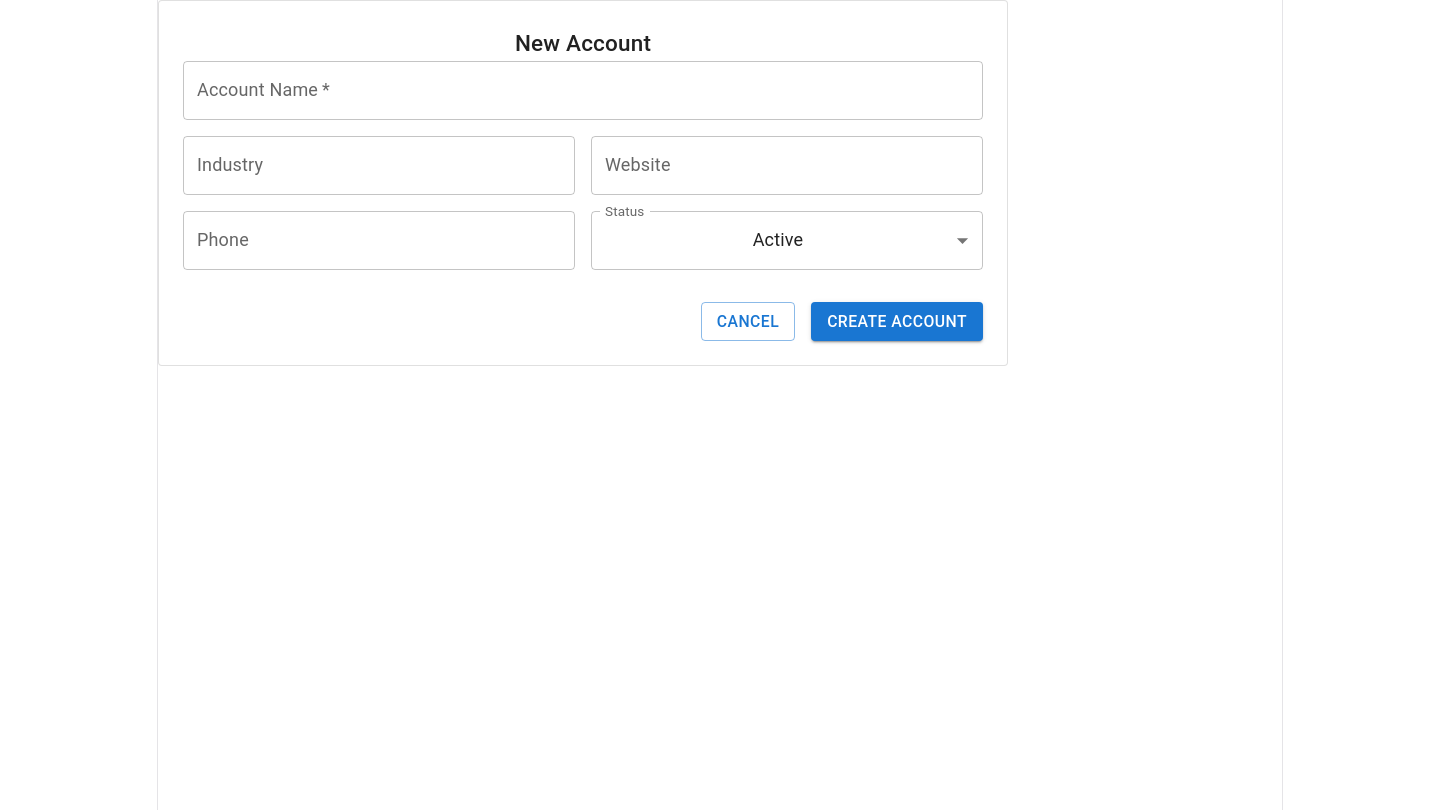
it: AccountFormPage › shows validation error when Account Name is empty
Click the button "Create Account" at [897, 321], box 811,302 -> 983,341
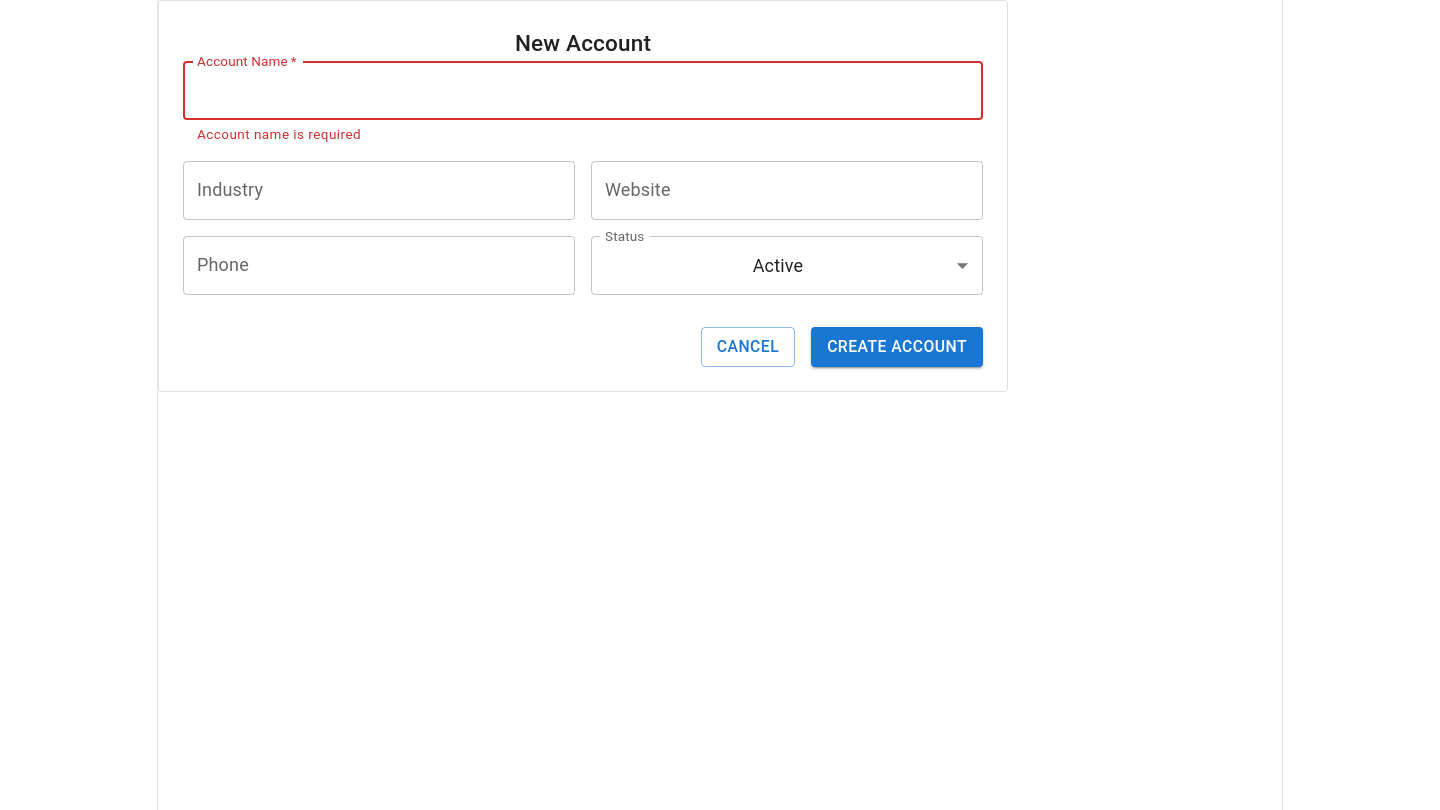
Check: the text "Account name is required" is shown, box 197,126 -> 361,142
